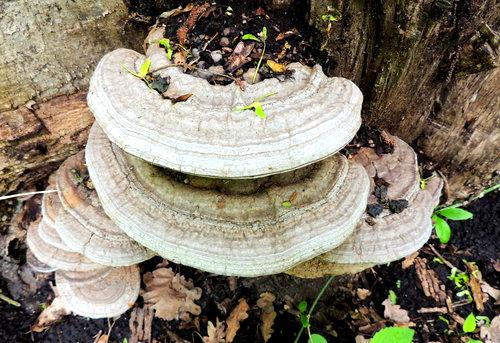Ganoderma - Fruit Body: (90, 36, 362, 169), (101, 169, 369, 276), (370, 145, 441, 266), (25, 150, 87, 271), (56, 275, 142, 318)
